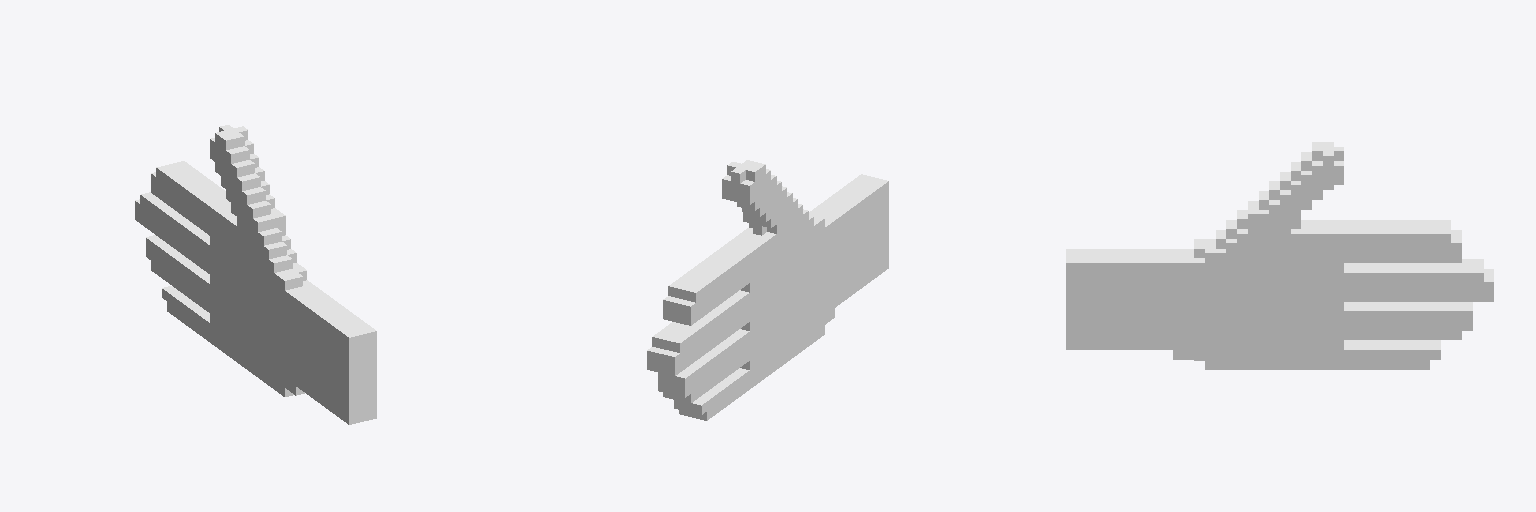
Rendered from RightHand01.obj.
The picture shows the model from 3 angles: view 1: azimuth 30°, elevation 25°; view 2: azimuth 150°, elevation 25°; view 3: azimuth 270°, elevation 25°; orthographic projection.
Parts seen in each view (by area): view 1: object 1; view 2: object 1; view 3: object 1.
Boxes of the visible parts, <box> form: object 1: <box>135,125,376,424</box>; object 1: <box>647,160,888,420</box>; object 1: <box>1066,142,1493,369</box>.
Bounding box in the file's own units: 0.3 × 2.2 × 4.